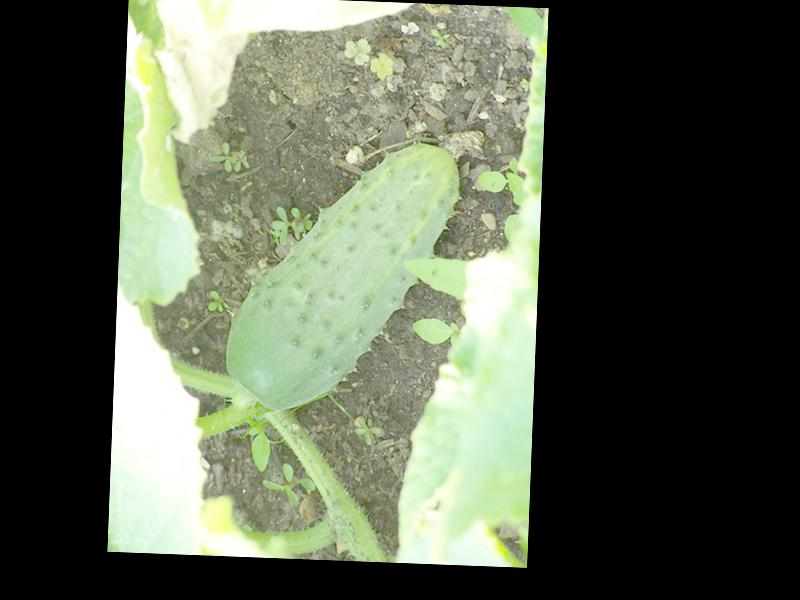Cucumber: (223, 136, 460, 418)
